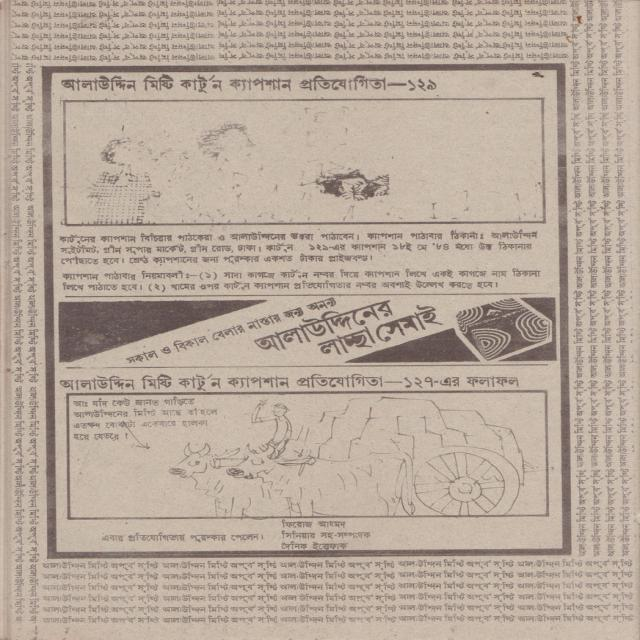advertisement: (0, 0, 637, 639)
